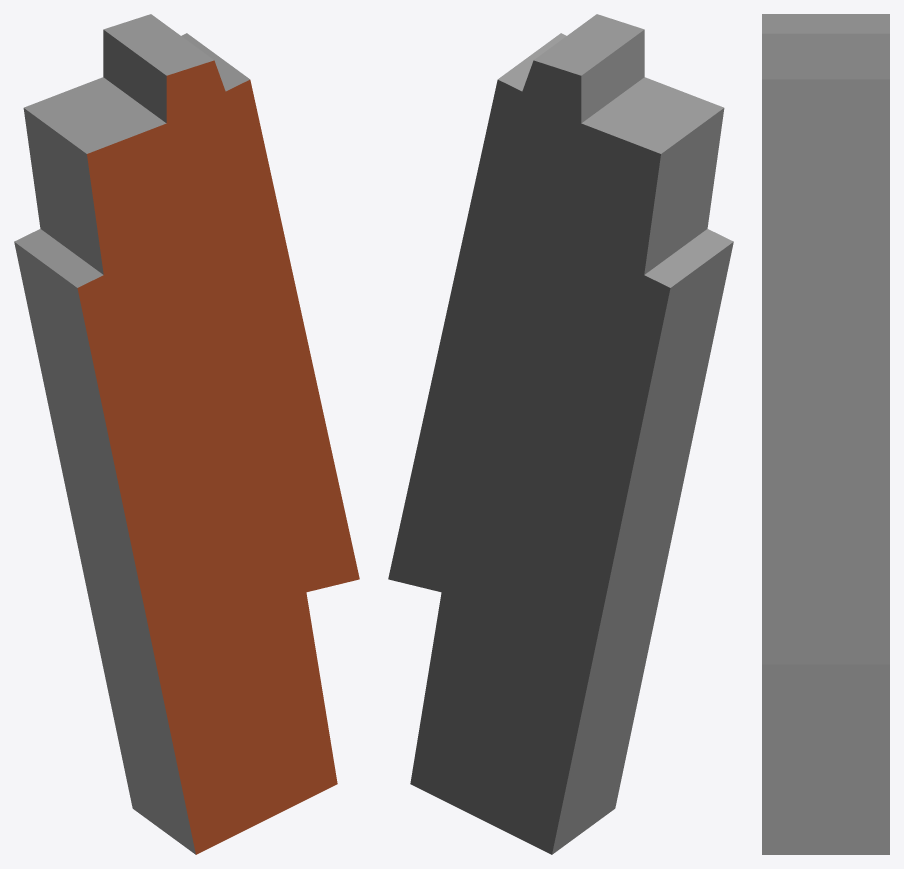
File: construction_3418_assumed_A_Casa_h6m.obj
3 views of the same model, side by side, from view 1: azimuth 30°, elevation 25°; view 2: azimuth 150°, elevation 25°; view 3: azimuth 270°, elevation 25° (orthographic).
Visible parts, largest first — view 1: construction_3418_assumed_A_Casa; view 2: construction_3418_assumed_A_Casa; view 3: construction_3418_assumed_A_Casa.
Part boxes in pixels (x1,y1,x2,y2): construction_3418_assumed_A_Casa: (14, 14, 359, 854); construction_3418_assumed_A_Casa: (388, 14, 733, 854); construction_3418_assumed_A_Casa: (762, 14, 889, 854).
Bounding box in the file's own units: 15.44 × 41.29 × 6.
